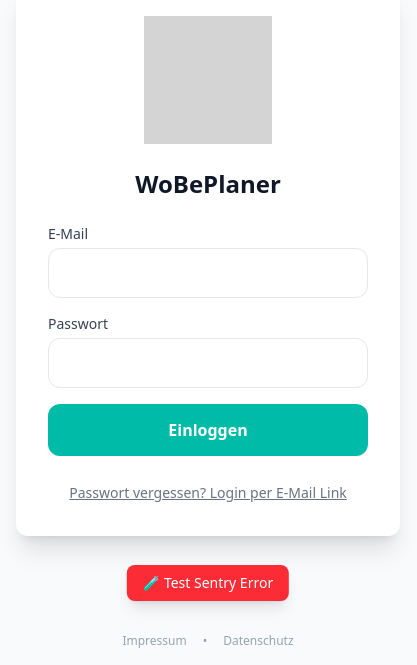
it: Login Component › Password Login › shows loading state during login
The width and height of the screenshot is (417, 665).
In the field: (208, 273) [48,248,368,298], type "test@example.com"
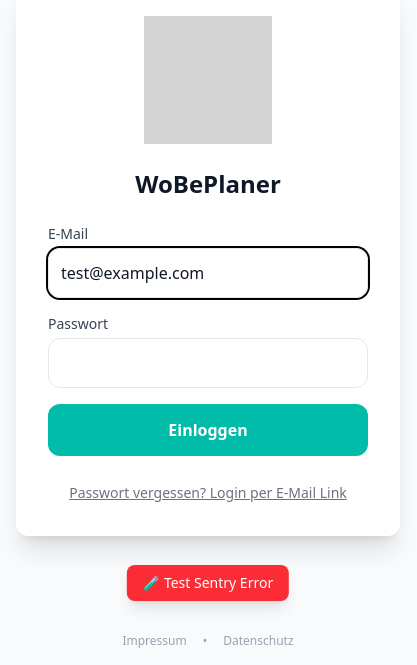
In the password field: (208, 363) [48,338,368,388], type "password"
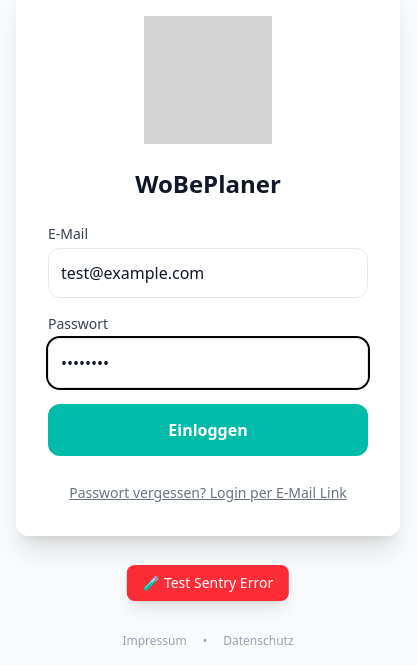
Click the button "Einloggen": (208, 430) [48,404,368,456]
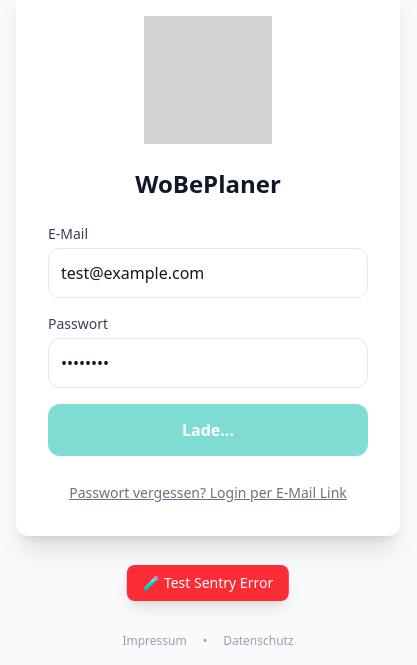
Expected: the button "Lade..." is disabled, [48,404,368,456]
